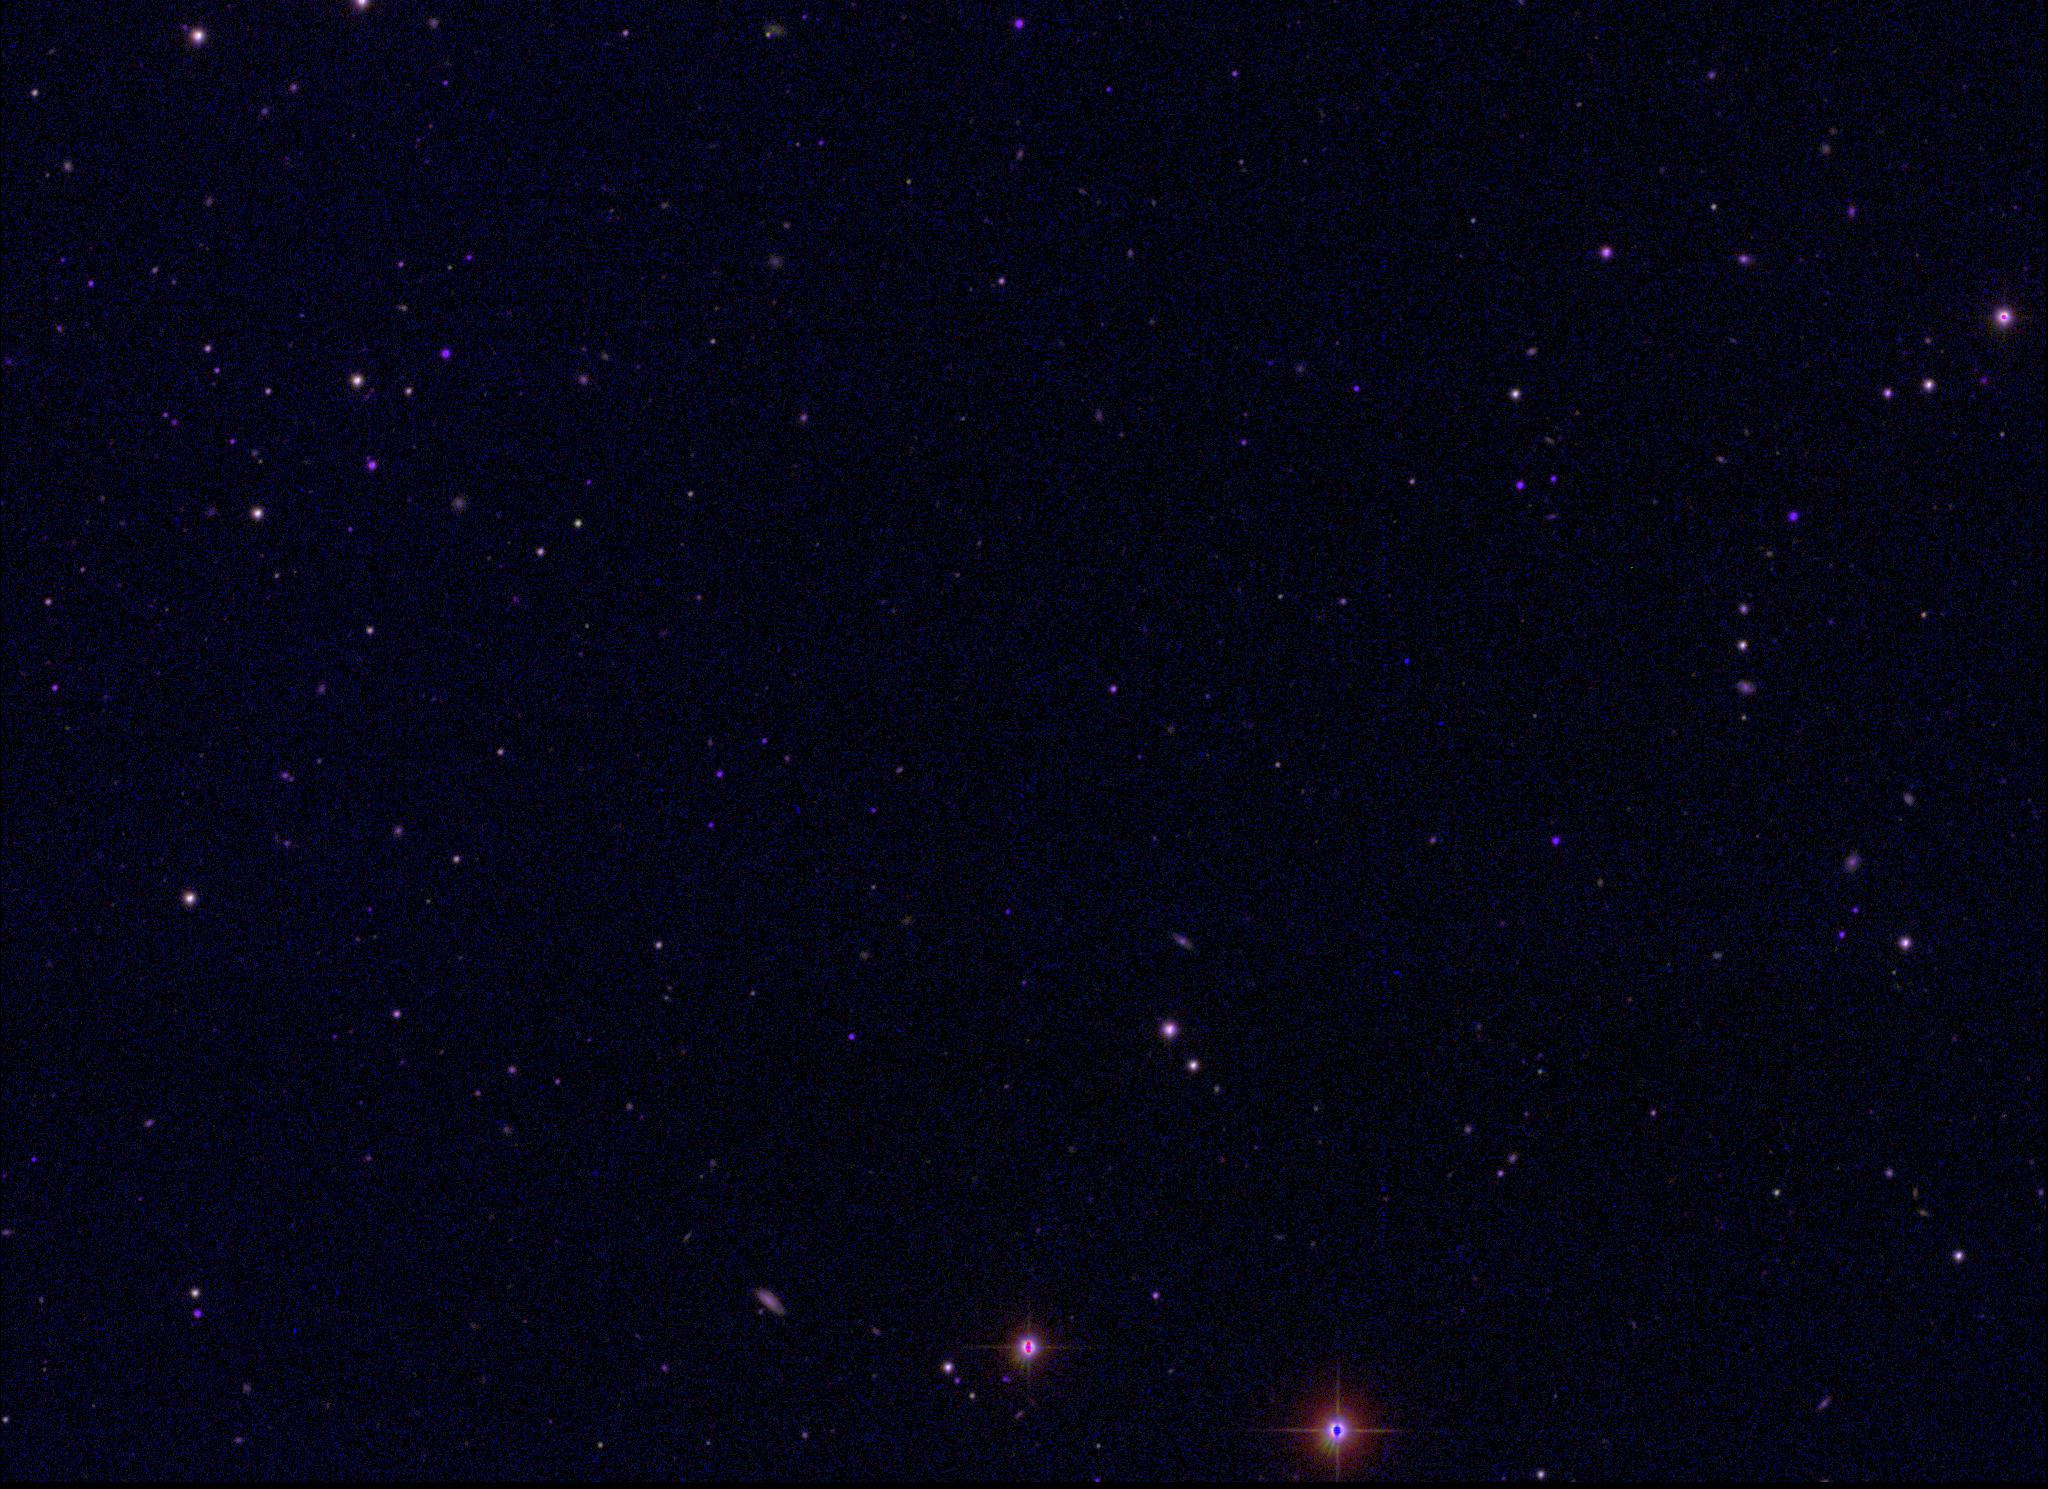L: (1399, 654, 1414, 668)
